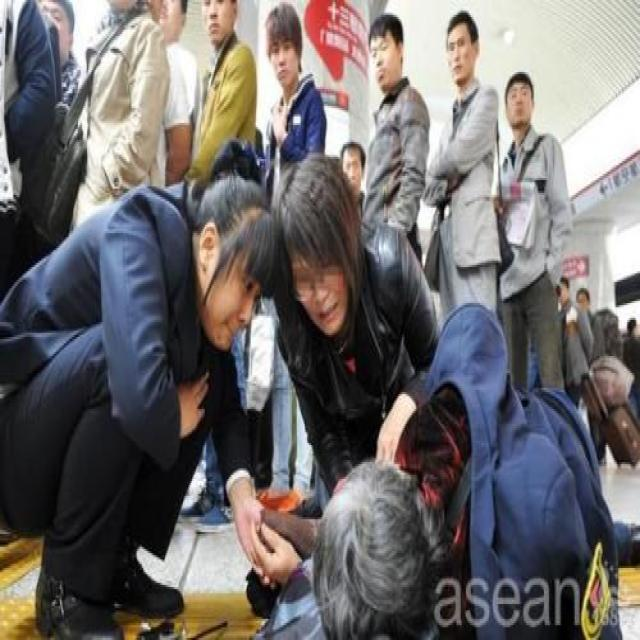10-: (0, 0, 639, 638)
down: (250, 292, 638, 638)
